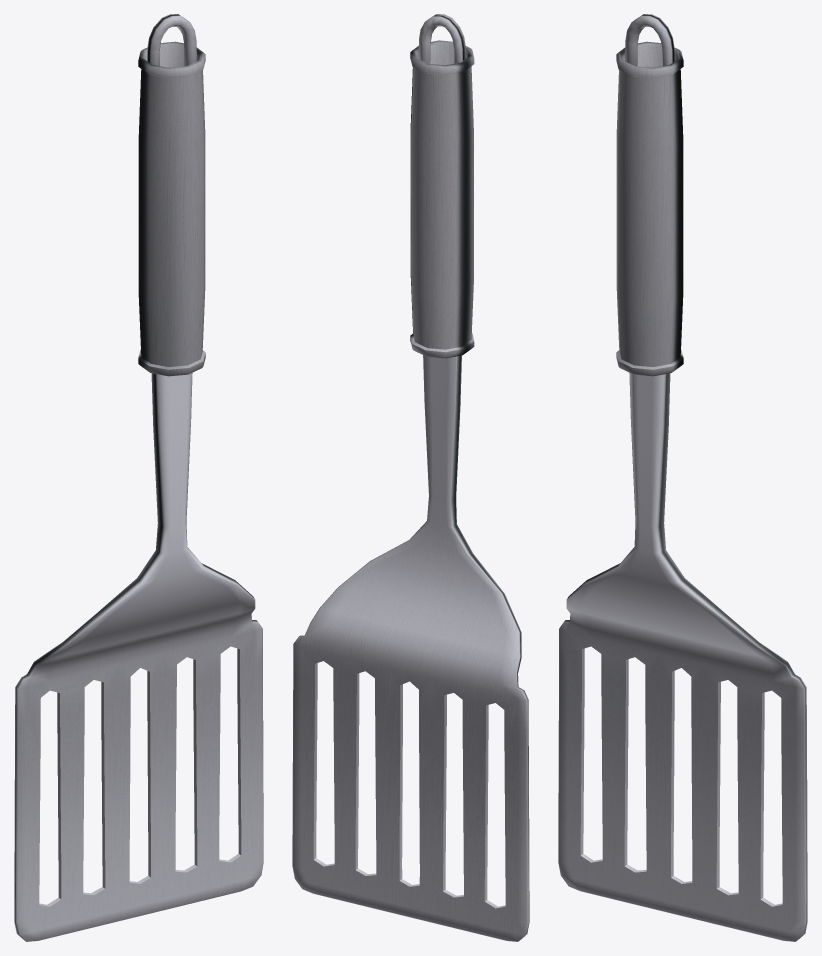
Rendered from 10316_Spatula_v1.obj.
3 views of the same model, side by side, from view 1: azimuth 30°, elevation 25°; view 2: azimuth 150°, elevation 25°; view 3: azimuth 330°, elevation 25° (orthographic). The views are drawn at different scales.
Parts seen in each view (by area): view 1: 10316_Spatula; view 2: 10316_Spatula; view 3: 10316_Spatula.
Boxes of the visible parts, bbox=[...] form: 10316_Spatula: bbox=[14, 14, 263, 941]; 10316_Spatula: bbox=[292, 14, 529, 941]; 10316_Spatula: bbox=[558, 14, 807, 941].
Bounding box in the file's own units: 8.84 × 31.45 × 3.18.
Materials: 1 (1 with a texture image).
